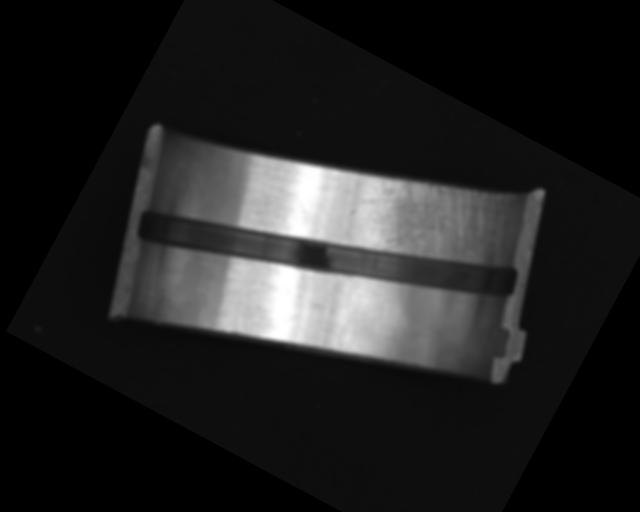gap: (130, 99, 524, 406)
scratch: (344, 135, 524, 304)
